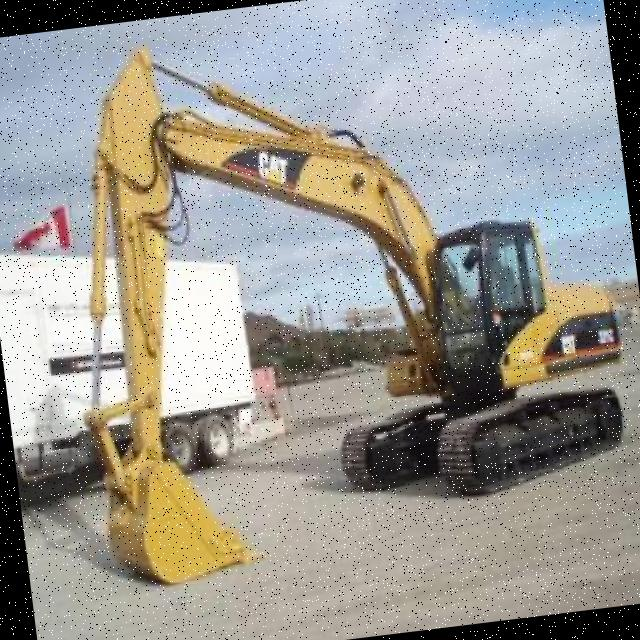Excavator: (30, 0, 640, 597)
